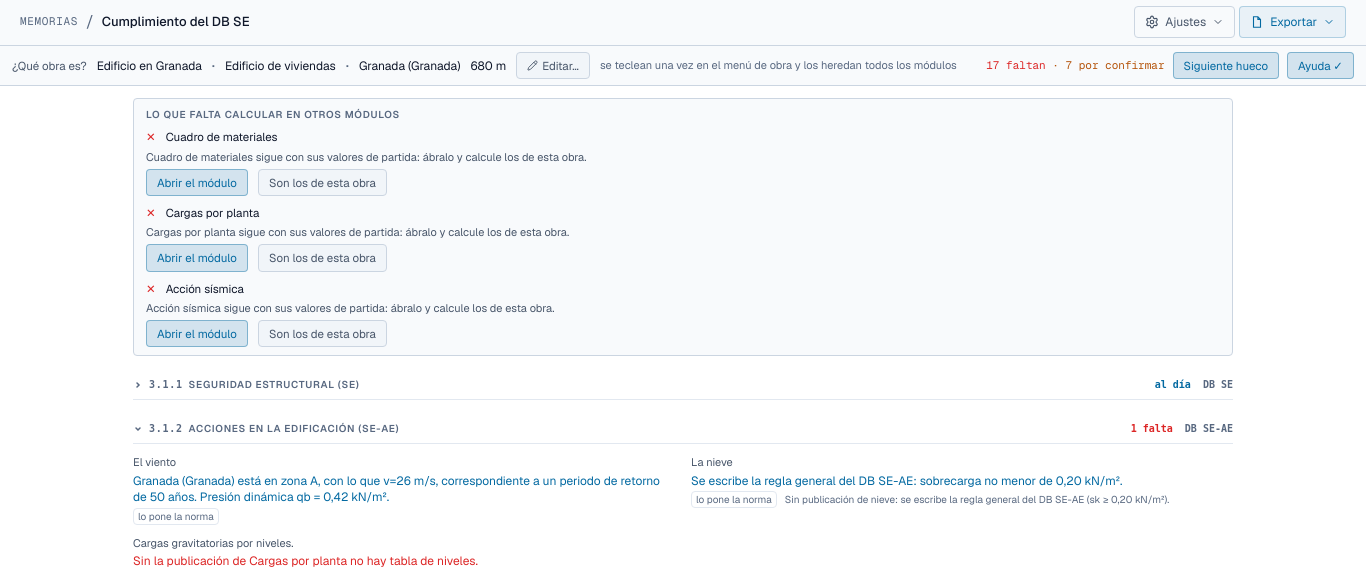
Cumplimiento del DB SE — el módulo › un módulo con sus valores de partida NO entra: se avisa y se ofrece la salida
The image size is (1366, 570).
Expected: the text "Lo que falta calcular en otros módulos" is shown, [146,108,400,121]
Expected: the text "sigue con sus valores de partida" is shown 3 times, [146,150,587,164]; [146,225,569,239]; [146,301,554,315]
Click the 1st button "Son los de esta obra" at [322, 182], box [258,169,387,196]
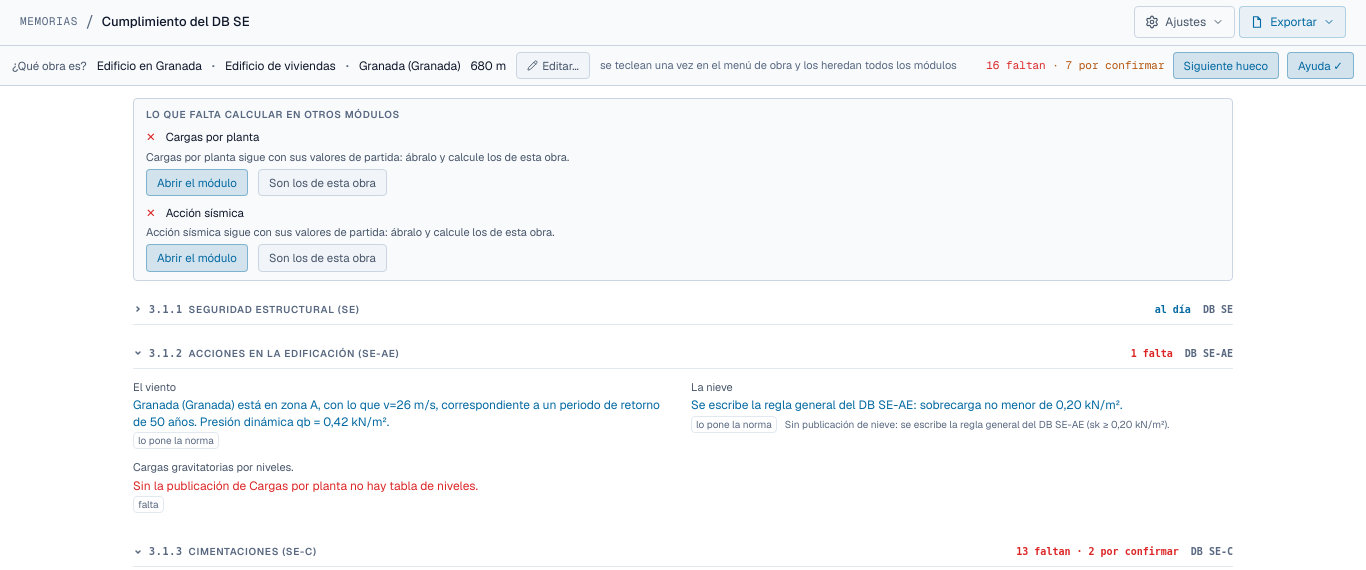
Click the 1st button "Son los de esta obra" at [322, 182], box [258,169,387,196]
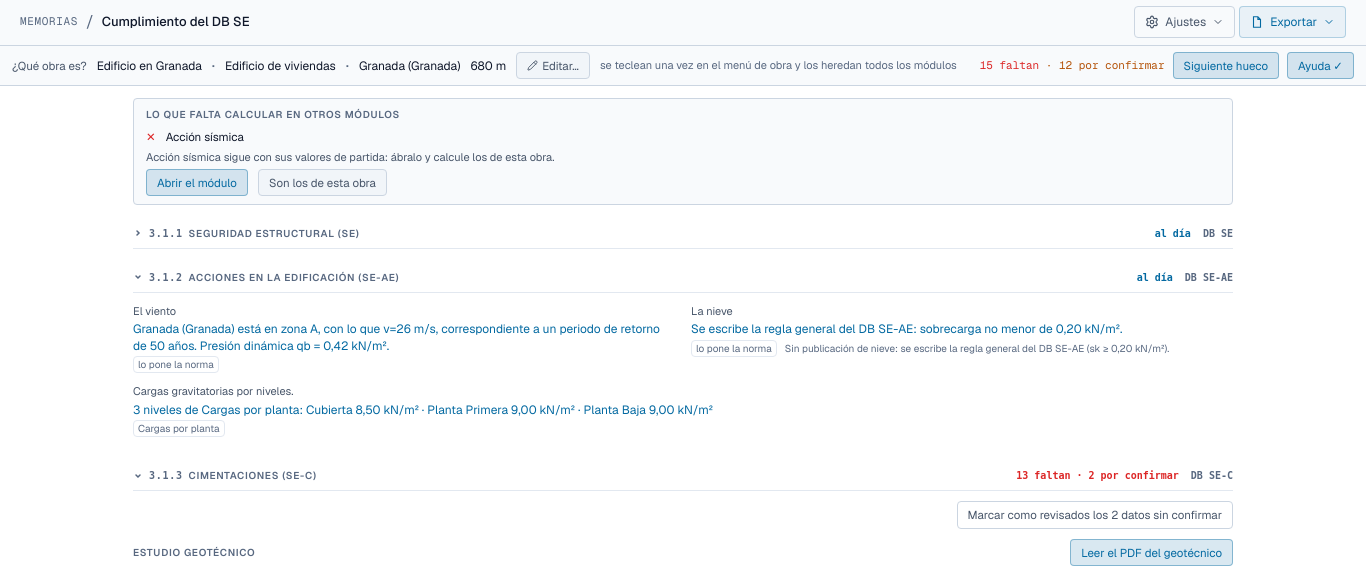
Click the button "Son los de esta obra" at [322, 182], box [258,169,387,196]
(page scrolled)
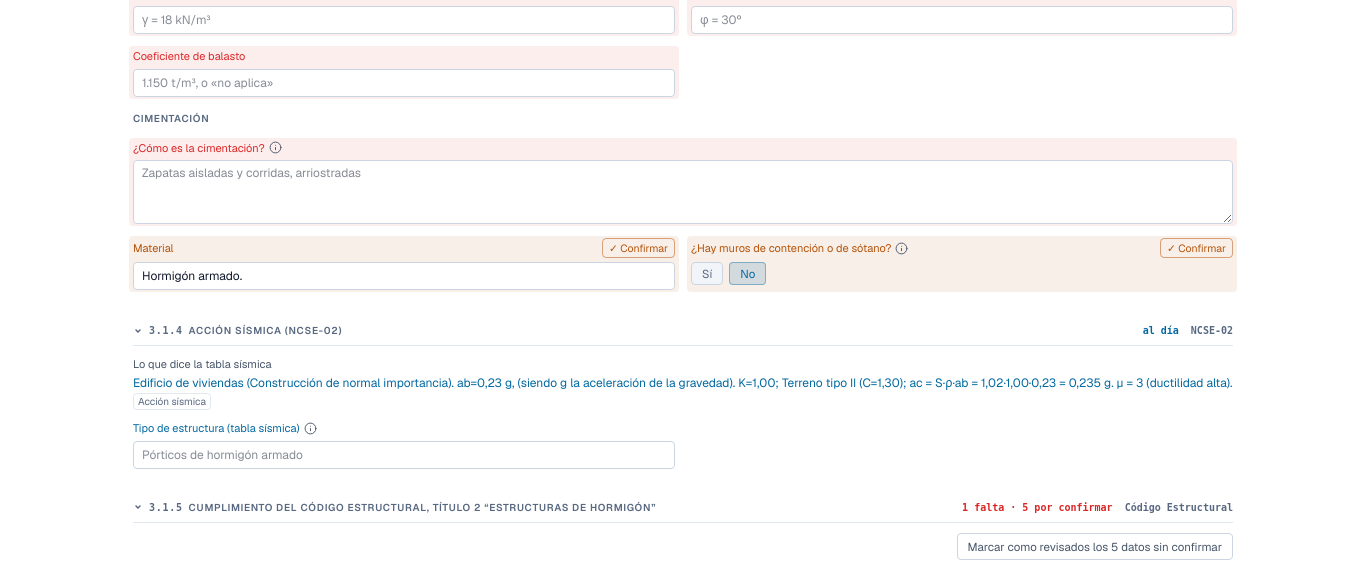
Expected: the text "Lo que falta calcular en otros módulos" is gone
Expected: the text "ab=0,23 g" is shown, [133,375,1232,391]
Expected: the text "sigue con sus valores de partida" is gone
